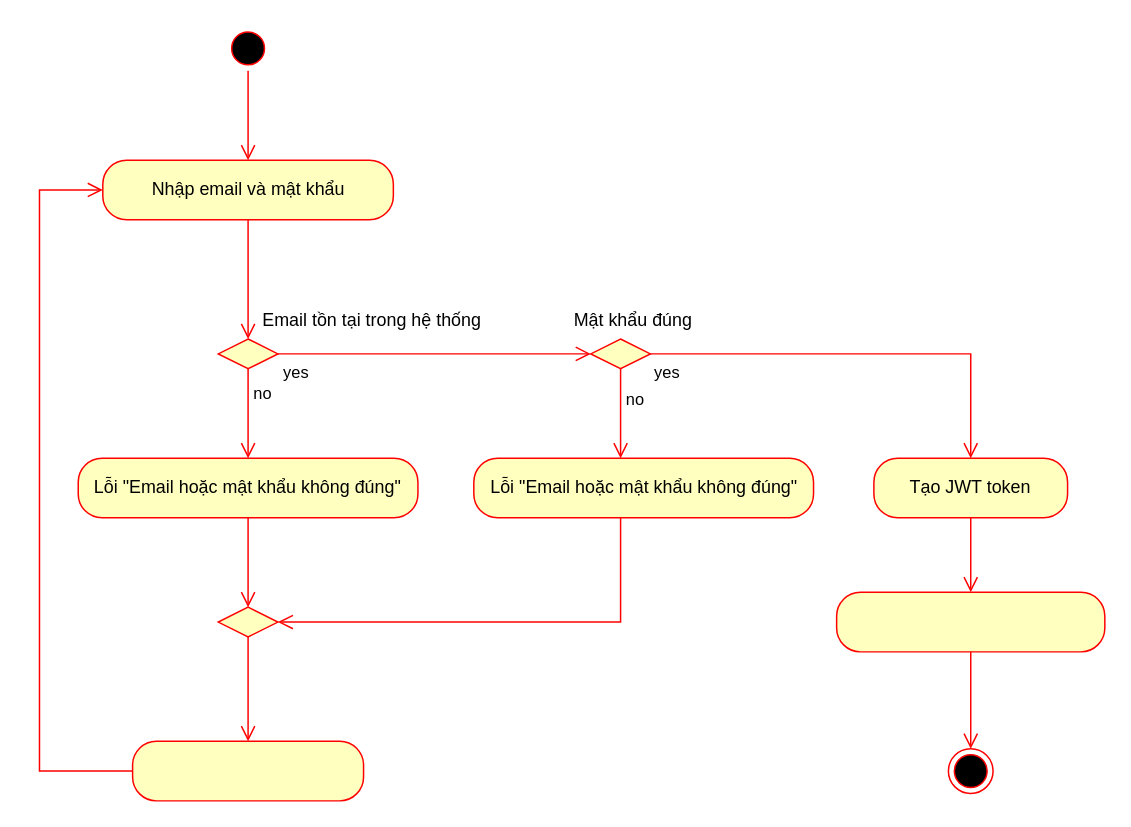
Image size: 1131x827. Some labels were removed from this diagram. The shapes that lost their labels are listed below. From the top down, each one's centre as x and y in pixels, then its label:
(970,621): Chuyển vào trang Dashboard
(247,770): Quay lại bước đăng nhập
